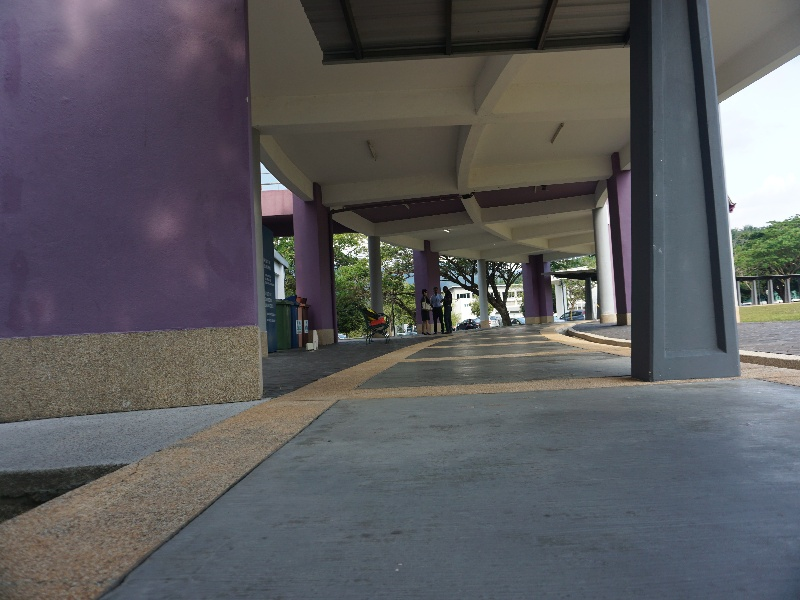Block D Pillar 1: (4, 4, 800, 452)
pillar: (4, 1, 282, 412), (614, 1, 752, 394), (282, 184, 342, 345), (522, 254, 555, 330), (366, 231, 389, 330), (472, 254, 491, 344)
